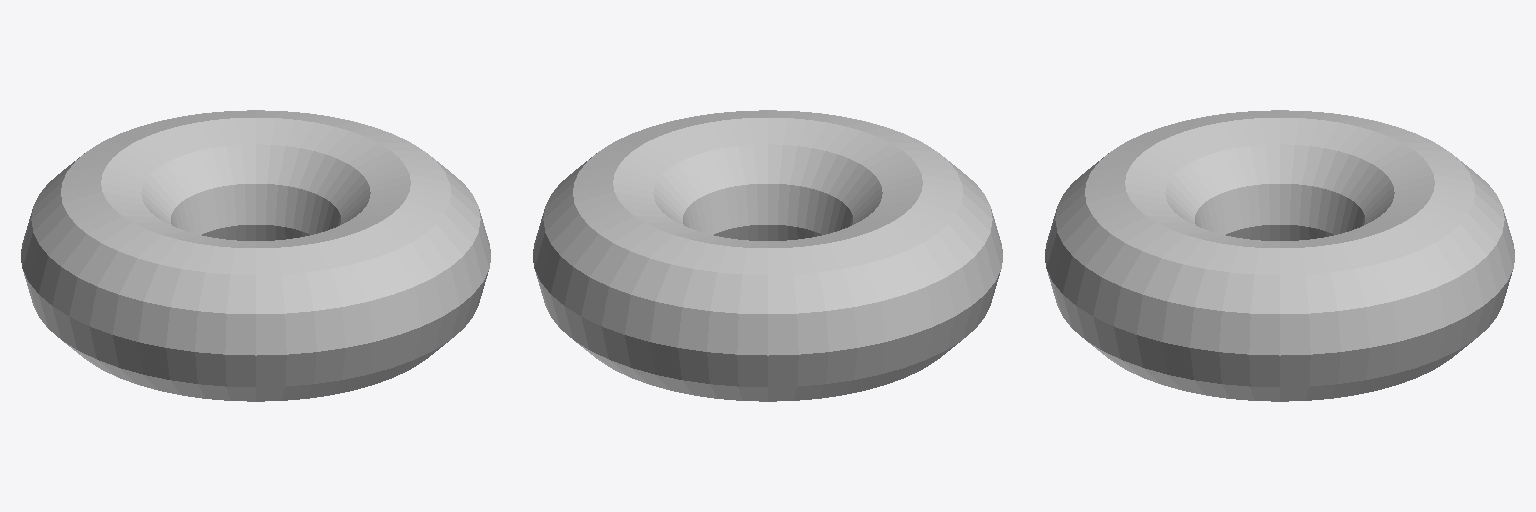
The model's file is donut.obj.
The picture shows the model from 3 angles: view 1: azimuth 30°, elevation 25°; view 2: azimuth 150°, elevation 25°; view 3: azimuth 270°, elevation 25°; orthographic projection.
Parts seen in each view (by area): view 1: Torus; view 2: Torus; view 3: Torus.
Boxes of the visible parts, x1,y1,x2,y2 form: Torus: [21, 110, 490, 401]; Torus: [533, 110, 1002, 401]; Torus: [1045, 110, 1514, 401].
Size of the model in its own units: 6.08 by 2.08 by 6.08.